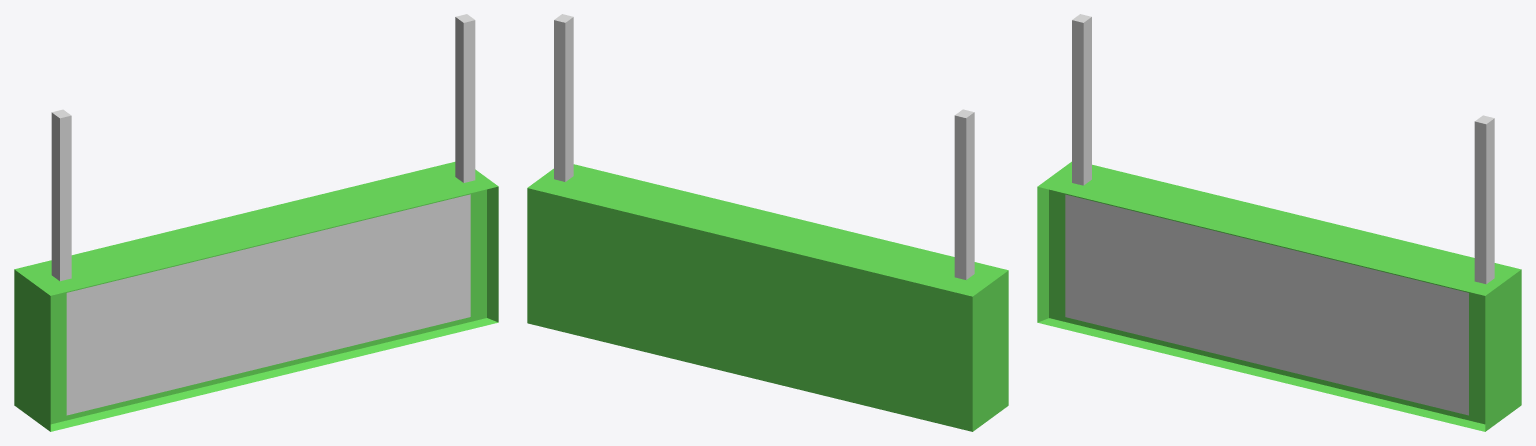
The picture shows the model from 3 angles, left to right: view 1: azimuth 30°, elevation 25°; view 2: azimuth 150°, elevation 25°; view 3: azimuth 330°, elevation 25°; orthographic projection.
Visible parts, largest first — view 1: Cube.374; view 2: Cube.374; view 3: Cube.374.
Boxes of the visible parts, <box> form: Cube.374: <box>14,14,498,431</box>; Cube.374: <box>527,14,1008,431</box>; Cube.374: <box>1037,14,1521,431</box>.
Bounding box in the file's own units: 98.38 × 62.72 × 13.81.
